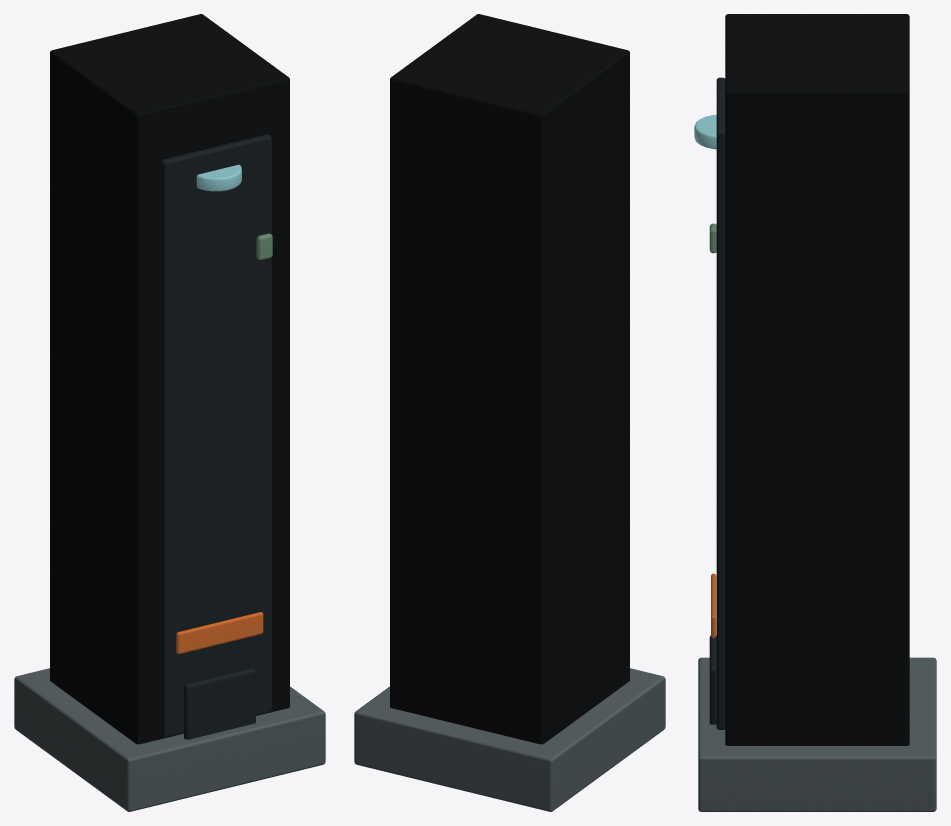
The model's file is SecurityPillar.glb.
The picture shows the model from 3 angles, left to right: view 1: azimuth 30°, elevation 25°; view 2: azimuth 150°, elevation 25°; view 3: azimuth 270°, elevation 25°; orthographic projection. The views are drawn at different scales.
Visible parts, largest first — view 1: SecurityPillar_Mesh; view 2: SecurityPillar_Mesh; view 3: SecurityPillar_Mesh.
Part boxes in pixels (box(x1,y1,x2,y2)): SecurityPillar_Mesh: box(14, 14, 325, 811); SecurityPillar_Mesh: box(354, 14, 665, 811); SecurityPillar_Mesh: box(694, 14, 936, 811).
Size of the model in its own units: 0.62 by 2.04 by 0.63.
6 materials, 6 textured.
